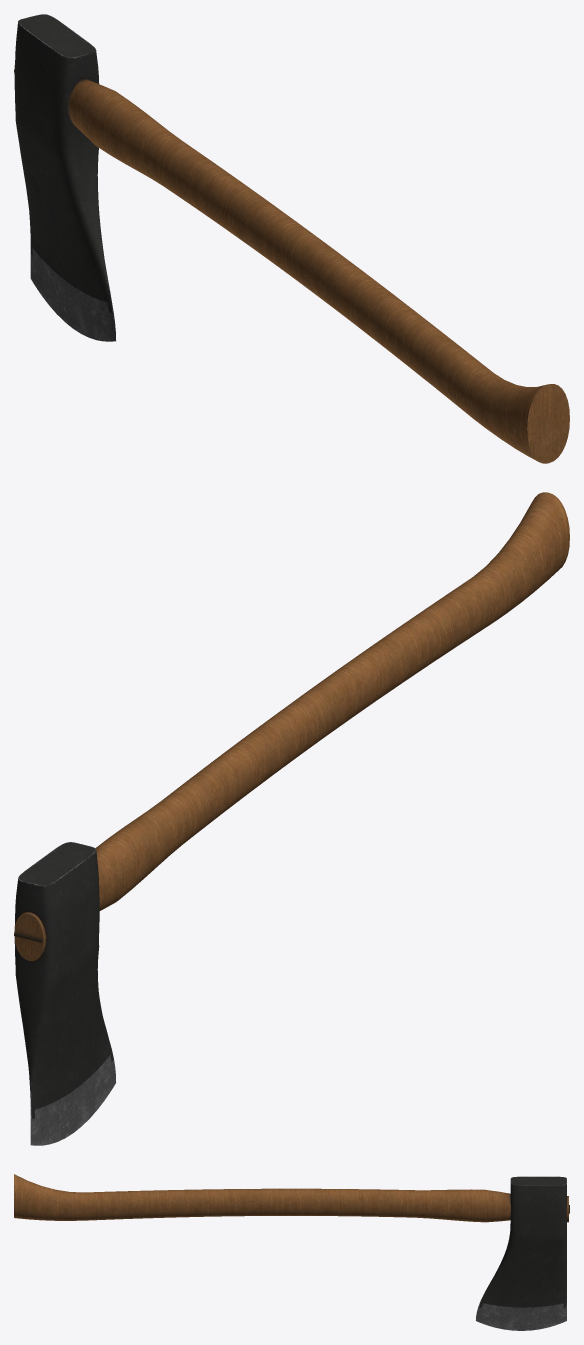
File: axe_low.glb
The picture shows the model from 3 angles, top to bottom: view 1: azimuth 30°, elevation 25°; view 2: azimuth 150°, elevation 25°; view 3: azimuth 270°, elevation 25°; orthographic projection. The views are drawn at different scales.
Visible parts, largest first — view 1: axe; view 2: axe; view 3: axe.
Part boxes in pixels (box(x1,y1,x2,y2)): axe: box(14, 14, 569, 463); axe: box(14, 492, 569, 1145); axe: box(14, 1174, 569, 1330).
Size of what is drawn, in the model's own units: 0.0288 by 0.1885 by 0.6092.
1 material, 1 textured.
